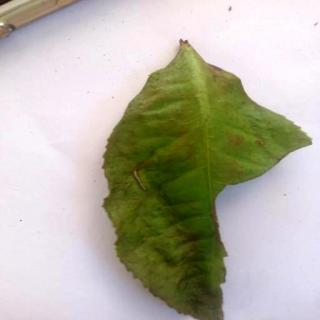Brown Blight: (103, 40, 313, 320)
